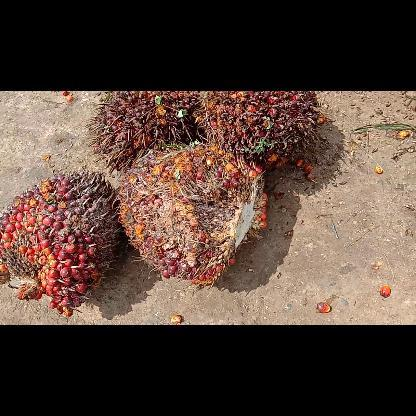TBS masak: (115, 140, 264, 286), (0, 168, 119, 316), (86, 90, 192, 176), (196, 90, 314, 166)
